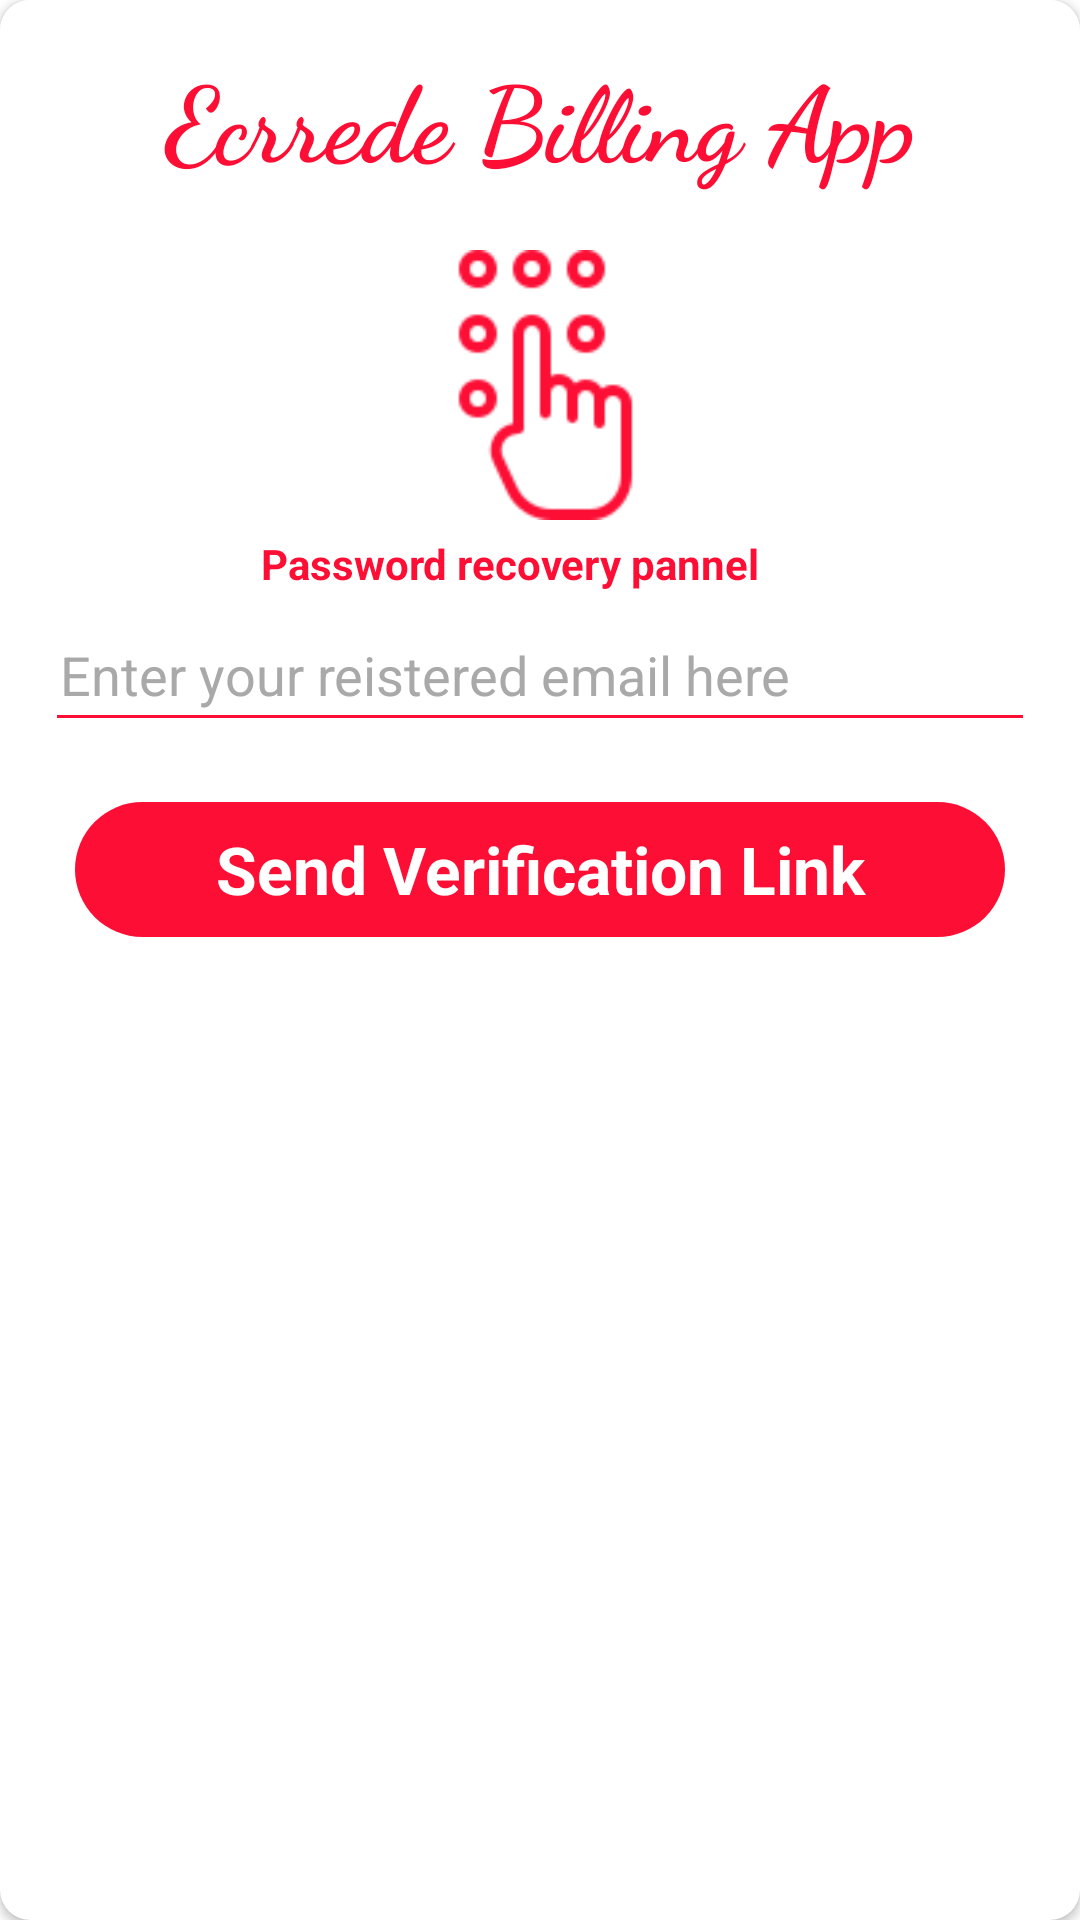

Point at icon controls on the screen. Image size 1080w x 1920h, points as point (x, y).
keypad: point (545, 385)
